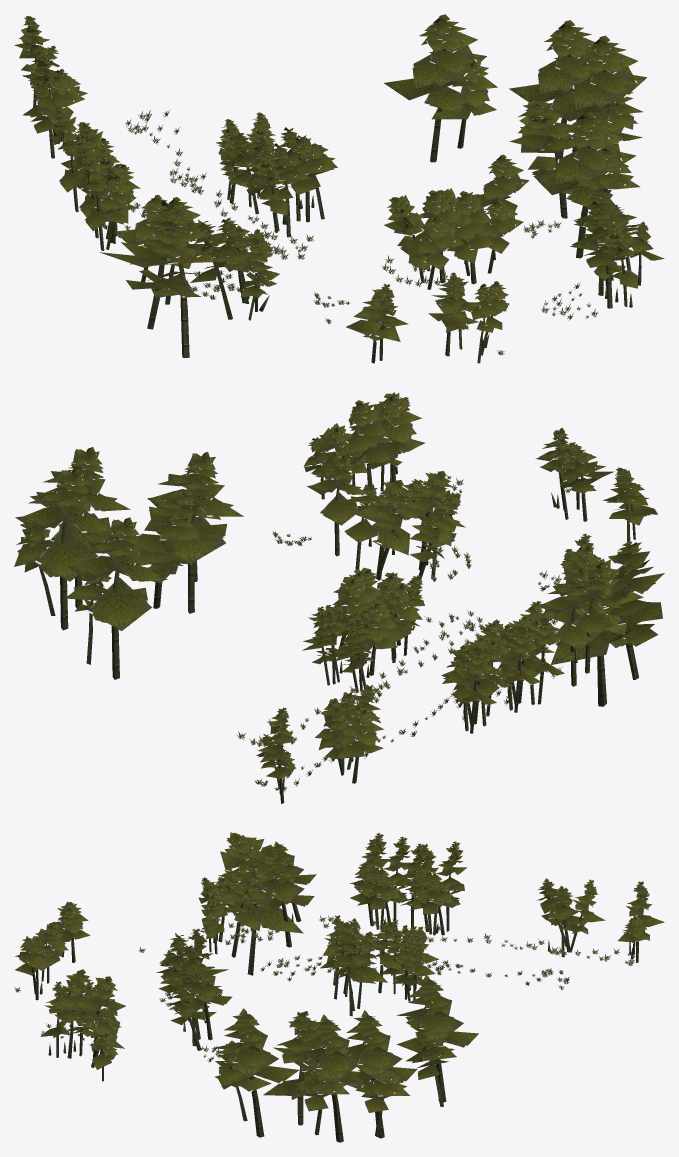
The model's file is tree08.fbx.
The picture shows the model from 3 angles, top to bottom: view 1: azimuth 30°, elevation 25°; view 2: azimuth 150°, elevation 25°; view 3: azimuth 270°, elevation 25°; orthographic projection. The views are drawn at different scales.
Parts seen in each view (by area): view 1: tree08; view 2: tree08; view 3: tree08.
Part boxes in pixels (x1=…): tree08: x1=14, y1=14, x2=664, y2=363; tree08: x1=14, y1=392, x2=664, y2=803; tree08: x1=14, y1=832, x2=664, y2=1142.
Size of the model in its own units: 7830 by 2251 by 9087.
